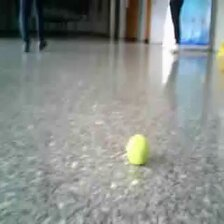tennis: (125, 134, 152, 166)
